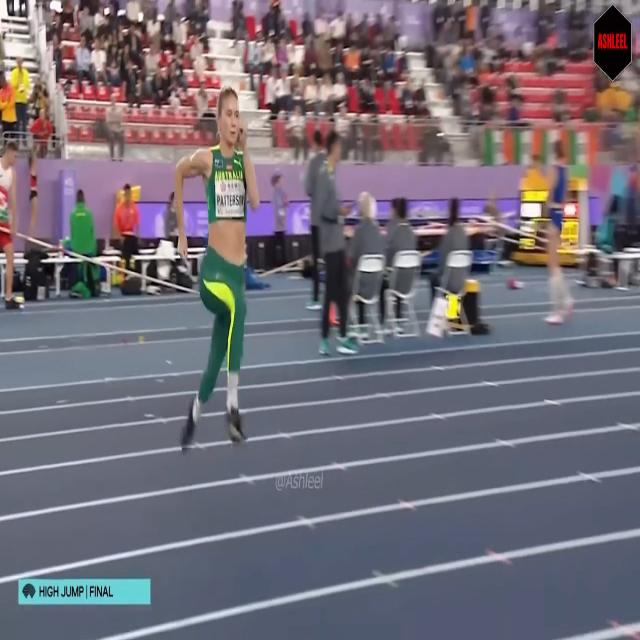run: (174, 83, 260, 449)
